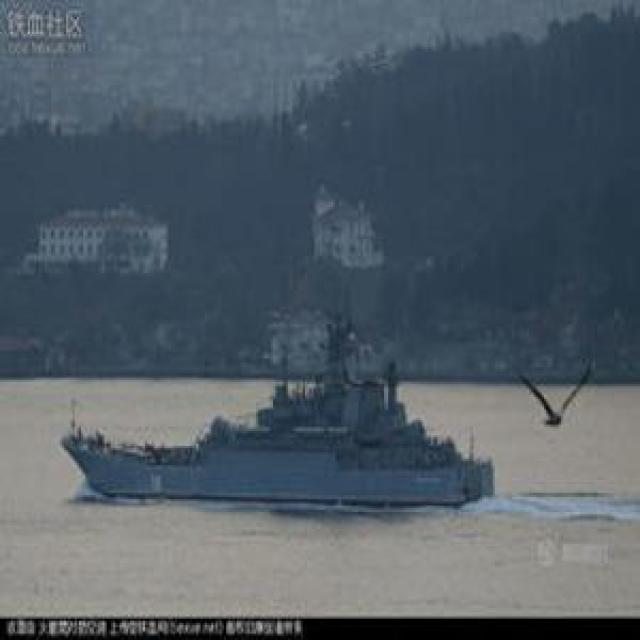navalvessels: (62, 324, 507, 520)
